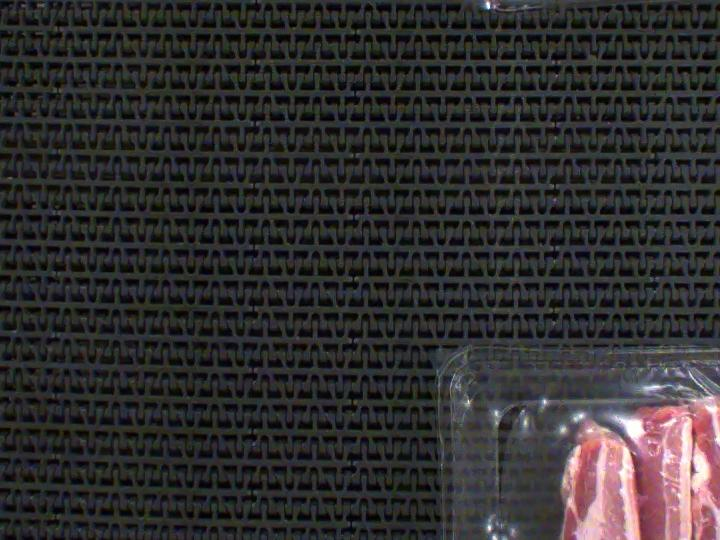unsealed: (447, 343, 720, 540)
